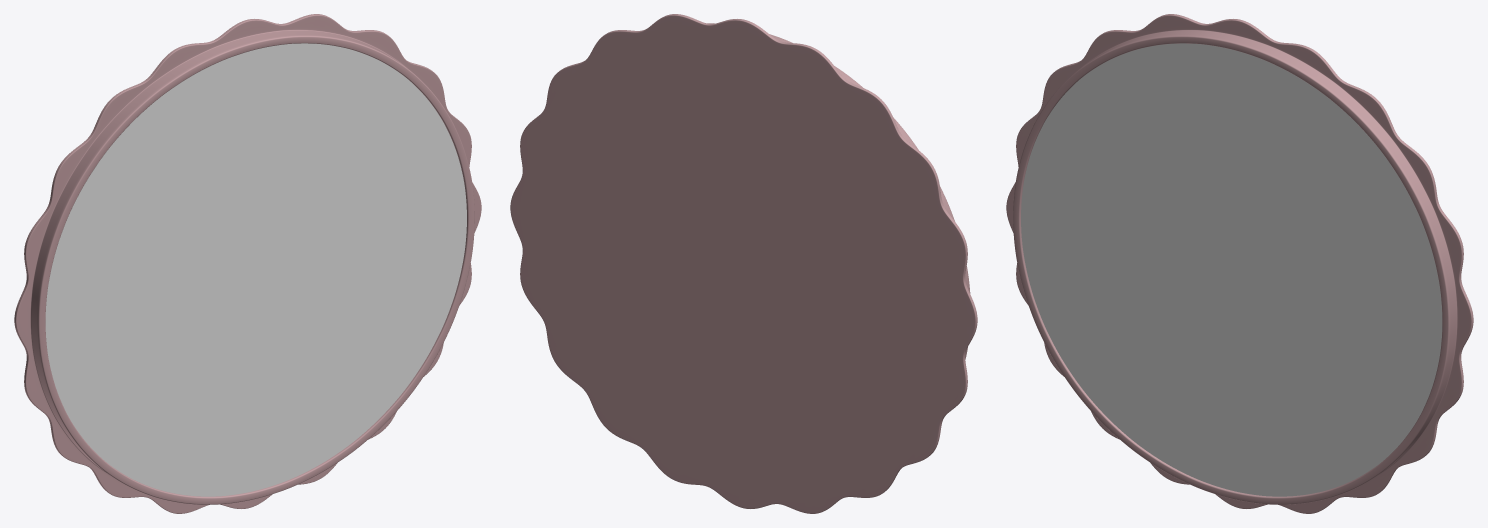
Rendered from daggkaprifol_lustro_50595649.glb.
The picture shows the model from 3 angles, left to right: view 1: azimuth 30°, elevation 25°; view 2: azimuth 150°, elevation 25°; view 3: azimuth 330°, elevation 25°; orthographic projection.
Parts seen in each view (by area): view 1: daggkaprifol_lustro_50595649; view 2: daggkaprifol_lustro_50595649; view 3: daggkaprifol_lustro_50595649.
Part boxes in pixels (bbox=[...]): daggkaprifol_lustro_50595649: bbox=[14, 14, 481, 513]; daggkaprifol_lustro_50595649: bbox=[510, 14, 977, 513]; daggkaprifol_lustro_50595649: bbox=[1006, 14, 1473, 513].
Size of the model in its own units: 0.3957 by 0.3957 by 0.015.
